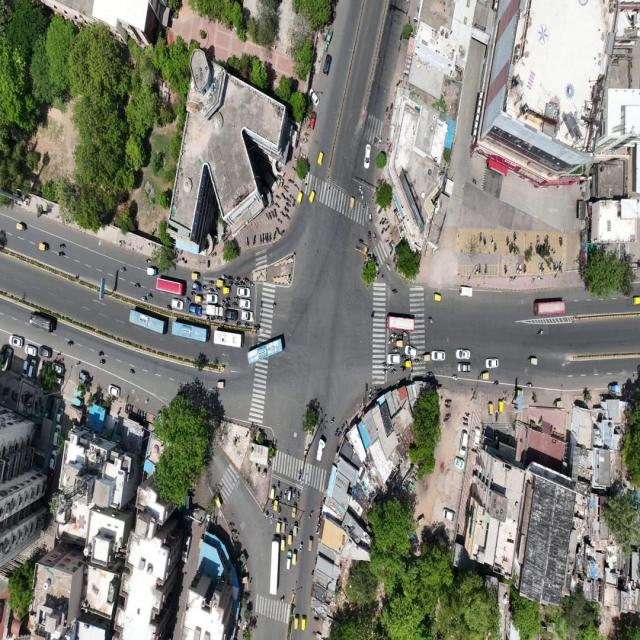3W: (525, 355, 540, 369), (431, 290, 444, 304), (15, 219, 26, 235), (308, 189, 318, 205), (486, 399, 494, 419), (317, 151, 325, 169), (478, 370, 490, 382), (38, 241, 49, 254), (301, 610, 307, 633), (294, 609, 300, 631), (146, 265, 159, 275), (189, 281, 202, 291), (190, 269, 201, 280), (348, 196, 355, 213), (216, 491, 223, 508), (308, 535, 314, 554), (292, 548, 298, 567), (498, 398, 505, 414), (291, 503, 298, 519), (421, 352, 431, 363), (268, 484, 275, 499), (282, 517, 288, 533), (275, 518, 281, 534), (280, 536, 286, 552), (293, 519, 298, 538), (288, 529, 293, 546), (216, 278, 225, 286), (404, 360, 413, 368), (194, 295, 202, 303), (223, 286, 230, 295), (395, 341, 404, 348), (274, 497, 278, 510)
Bus: (245, 334, 287, 368), (125, 309, 165, 337), (168, 320, 207, 344), (531, 298, 569, 318), (213, 328, 245, 351), (269, 537, 280, 596), (386, 313, 417, 332), (155, 278, 185, 296)
Cars: (457, 426, 469, 459), (307, 86, 323, 109), (322, 53, 336, 77), (439, 505, 458, 522), (361, 144, 373, 169), (51, 424, 65, 445), (458, 285, 475, 300), (307, 112, 321, 130), (7, 333, 23, 348), (38, 345, 54, 359), (49, 449, 59, 471), (456, 346, 471, 360), (54, 407, 67, 423), (240, 309, 256, 322), (25, 343, 38, 358), (485, 357, 500, 370), (107, 383, 121, 396), (52, 360, 64, 375), (456, 363, 474, 373), (431, 350, 447, 361), (405, 345, 418, 358), (170, 298, 184, 310), (189, 303, 203, 315), (225, 308, 239, 320), (237, 286, 251, 298), (386, 353, 400, 365), (239, 298, 252, 310), (204, 295, 220, 304), (286, 549, 292, 573), (21, 358, 28, 377), (29, 359, 36, 378), (288, 486, 292, 504)
LCV: (204, 306, 224, 316)
M2W: (368, 306, 376, 324), (536, 326, 546, 339), (390, 285, 400, 298), (307, 504, 315, 520), (375, 51, 382, 67), (557, 235, 565, 247), (386, 261, 393, 274), (57, 240, 67, 249), (97, 348, 106, 358), (356, 180, 362, 195), (252, 231, 258, 246), (492, 377, 501, 387), (503, 262, 509, 277), (56, 250, 67, 258), (280, 208, 287, 220), (472, 176, 479, 188), (299, 541, 305, 555), (133, 281, 142, 290), (302, 129, 311, 138), (287, 176, 296, 185), (426, 316, 434, 326), (494, 411, 499, 427), (474, 260, 479, 276), (533, 232, 541, 242), (366, 230, 372, 243), (273, 207, 279, 220), (272, 230, 278, 243), (522, 263, 528, 276), (330, 413, 336, 426), (553, 259, 560, 270), (489, 233, 494, 248), (97, 358, 106, 366), (289, 191, 295, 203), (451, 373, 459, 382), (120, 264, 127, 274), (128, 366, 135, 376), (300, 138, 310, 145), (257, 232, 262, 246), (368, 212, 373, 225), (245, 236, 250, 249), (483, 235, 488, 248), (494, 241, 499, 254), (513, 228, 518, 241), (292, 485, 297, 498), (278, 504, 283, 517), (67, 339, 75, 347), (184, 296, 192, 304), (165, 304, 172, 313), (377, 215, 384, 224), (361, 201, 367, 211), (263, 213, 269, 223), (442, 418, 452, 424), (478, 232, 483, 244), (269, 513, 274, 525), (146, 292, 154, 299), (189, 290, 197, 297), (231, 302, 239, 309), (282, 186, 289, 194), (389, 331, 397, 338), (390, 369, 398, 376), (516, 261, 520, 275), (483, 263, 488, 274), (537, 262, 542, 273), (138, 297, 147, 303), (385, 225, 391, 234), (444, 398, 453, 404), (400, 364, 406, 373), (506, 233, 510, 246), (542, 260, 546, 273), (380, 227, 385, 237), (208, 287, 215, 294), (221, 272, 228, 279), (274, 193, 281, 200), (388, 338, 395, 345), (382, 368, 389, 375), (144, 258, 152, 264), (249, 280, 255, 288), (373, 232, 377, 244), (277, 480, 281, 492), (279, 489, 283, 501), (297, 491, 301, 503), (385, 102, 388, 117), (208, 280, 215, 286), (216, 286, 222, 293), (228, 273, 234, 280), (234, 275, 241, 281), (228, 280, 235, 286), (243, 276, 250, 282), (384, 218, 391, 224), (445, 403, 452, 409), (401, 353, 407, 360), (202, 282, 207, 290), (361, 189, 365, 199), (444, 413, 454, 417), (414, 357, 419, 365), (266, 232, 269, 245), (233, 295, 239, 301), (225, 302, 231, 308), (234, 281, 240, 287), (390, 348, 399, 352), (284, 486, 287, 498), (224, 296, 231, 301), (219, 299, 224, 306), (239, 281, 246, 286), (385, 238, 390, 245), (382, 361, 387, 368), (270, 501, 273, 512), (397, 334, 402, 340), (402, 332, 409, 336)
Truck: (28, 309, 56, 334)
